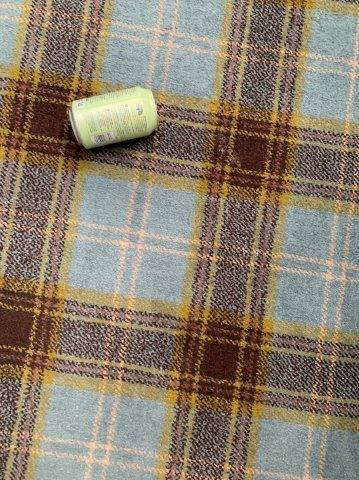kaleng: (69, 86, 158, 149)
